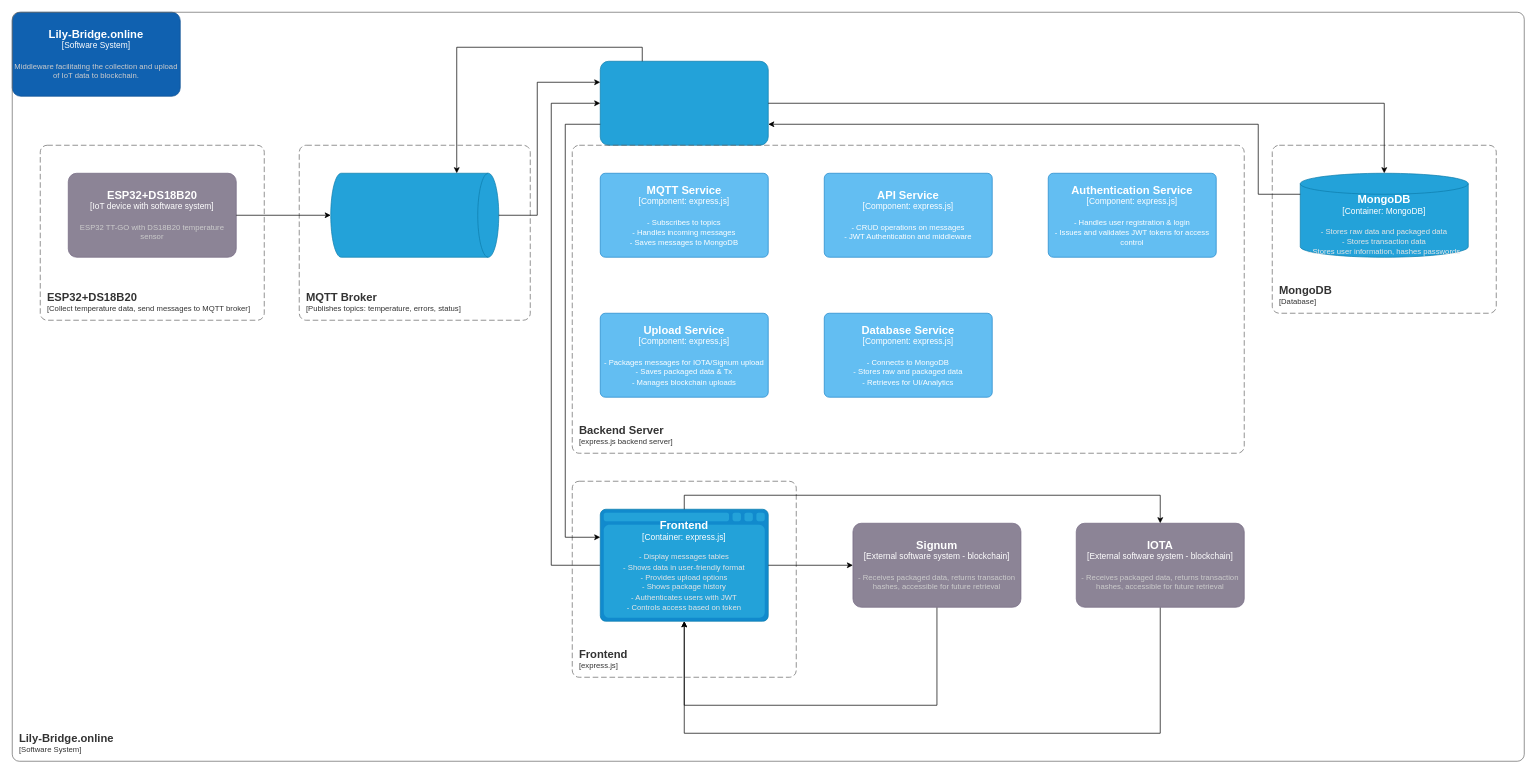
Image size: 1537x774. Some labels were removed from this diagram. Here are the shapes that lost their labels. From the top down, the centre of each, then its label:
point (684, 103): Backend server [Container: express.js] Backend server
point (414, 215): MQTT Broker [Container: MQTT] MQTT Broker on lily-bridge.online
